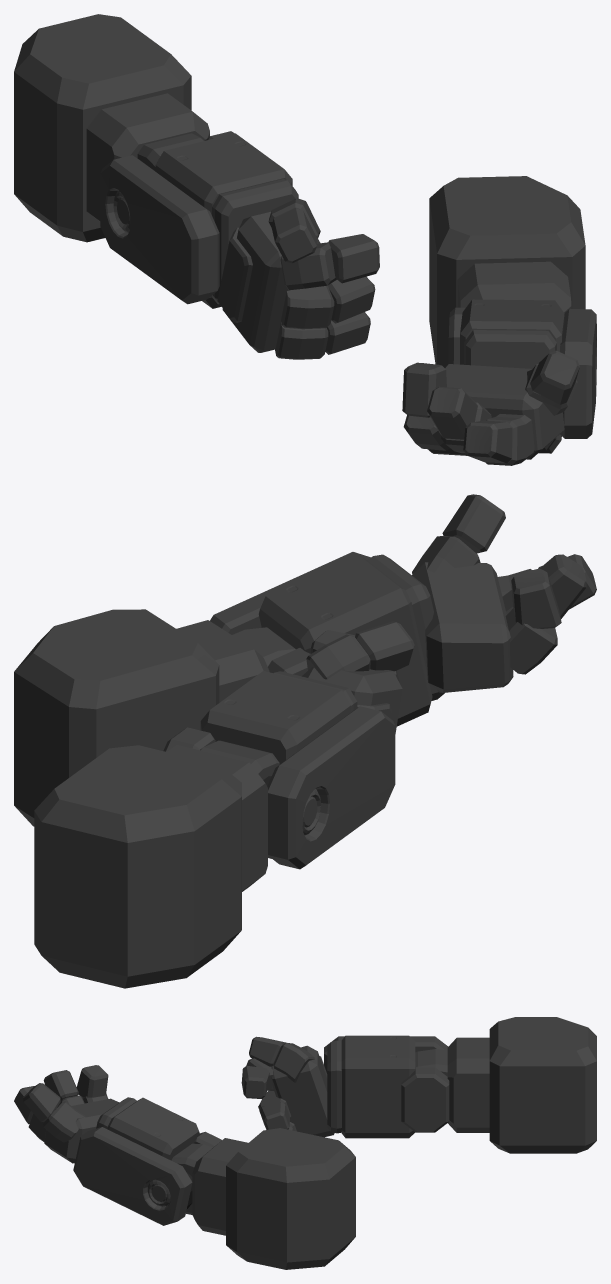
The model's file is arms_pose_blaster_V2.glb.
3 renders of one model, top to bottom at view 1: azimuth 30°, elevation 25°; view 2: azimuth 150°, elevation 25°; view 3: azimuth 270°, elevation 25°, orthographic. The views are drawn at different scales.
Visible parts, largest first — view 1: Cube.047, Cube.023, Cube.050, Cube.052, Cube.053, Cube.020, Cube.048, Cube.019, Cube.021, Cube.024, Cube.058, Cube.013 (+14 smaller); view 2: Cube.047, Cube.023, Cube.050, Cube.020, Cube.019, Cube.052, Cube.048, Cube.024, Cube.021, Cube.053, Cube.015, Cube.017 (+7 smaller); view 3: Cube.023, Cube.047, Cube.052, Cube.021, Cube.048, Cube.020, Cube.050, Cube.053, Cube.024, Cube.019, Cube.018, Cube.057 (+9 smaller).
Part boxes in pixels (x1=…): Cube.047: x1=14, y1=14, x2=191, y2=242; Cube.023: x1=429, y1=176, x2=585, y2=367; Cube.050: x1=100, y1=131, x2=234, y2=304; Cube.052: x1=155, y1=133, x2=298, y2=308; Cube.053: x1=217, y1=211, x2=320, y2=352; Cube.020: x1=460, y1=299, x2=564, y2=453; Cube.048: x1=86, y1=93, x2=209, y2=221; Cube.019: x1=428, y1=364, x2=564, y2=459; Cube.021: x1=448, y1=307, x2=596, y2=438; Cube.024: x1=457, y1=261, x2=571, y2=312; Cube.058: x1=281, y1=285, x2=334, y2=329; Cube.013: x1=427, y1=386, x2=477, y2=439; Cube.047: x1=34, y1=745, x2=241, y2=988; Cube.023: x1=14, y1=609, x2=219, y2=826; Cube.050: x1=163, y1=706, x2=395, y2=869; Cube.020: x1=258, y1=554, x2=444, y2=726; Cube.019: x1=412, y1=562, x2=513, y2=692; Cube.052: x1=200, y1=671, x2=357, y2=858; Cube.048: x1=167, y1=744, x2=267, y2=891; Cube.024: x1=176, y1=620, x2=269, y2=702; Cube.021: x1=210, y1=552, x2=370, y2=676; Cube.053: x1=302, y1=667, x2=402, y2=733; Cube.015: x1=511, y1=568, x2=561, y2=628; Cube.017: x1=442, y1=494, x2=505, y2=553; Cube.023: x1=226, y1=1128, x2=355, y2=1269; Cube.047: x1=489, y1=1017, x2=596, y2=1153; Cube.052: x1=327, y1=1035, x2=415, y2=1138; Cube.021: x1=73, y1=1127, x2=221, y2=1225; Cube.048: x1=447, y1=1037, x2=489, y2=1132; Cube.020: x1=96, y1=1097, x2=199, y2=1160; Cube.050: x1=324, y1=1036, x2=449, y2=1132; Cube.053: x1=271, y1=1045, x2=334, y2=1137; Cube.024: x1=192, y1=1138, x2=247, y2=1235; Cube.019: x1=44, y1=1098, x2=119, y2=1163; Cube.018: x1=43, y1=1101, x2=85, y2=1142; Cube.057: x1=273, y1=1043, x2=314, y2=1082.
Size of the model in its own units: 1.14 by 0.6938 by 2.47.
1 material, 1 textured.
